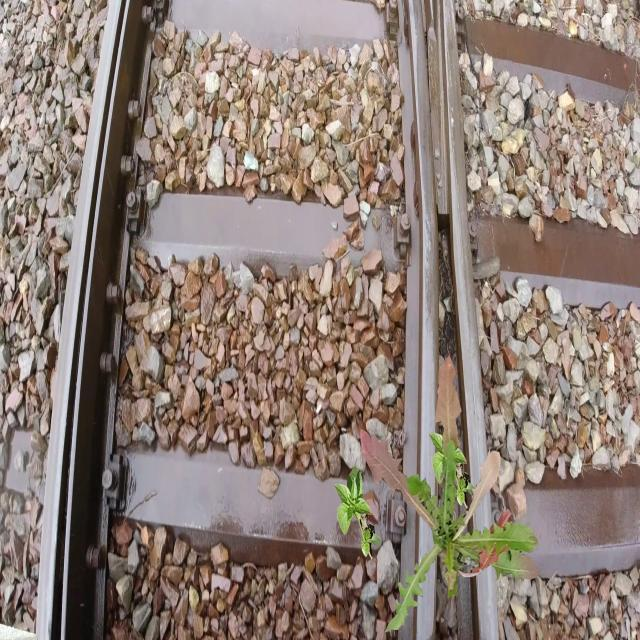Plant: (360, 355, 540, 633), (429, 414, 477, 509), (334, 465, 382, 560)
